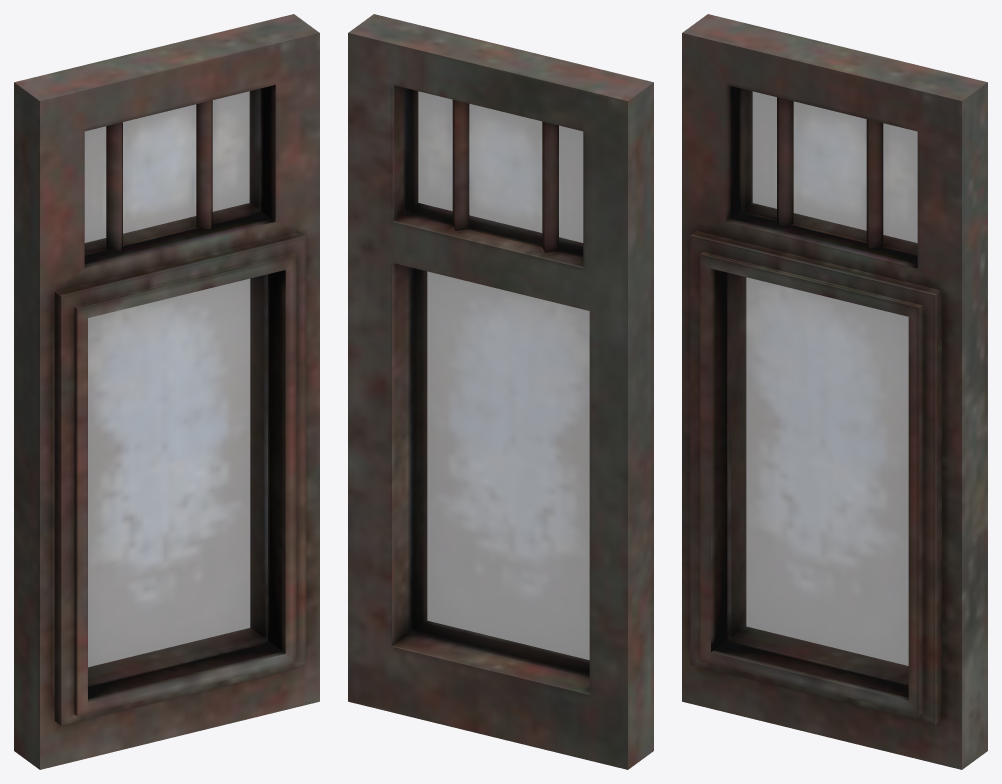
The model's file is S_Window.FBX.
The picture shows the model from 3 angles, left to right: view 1: azimuth 30°, elevation 25°; view 2: azimuth 150°, elevation 25°; view 3: azimuth 330°, elevation 25°; orthographic projection.
Parts seen in each view (by area): view 1: S_Window; view 2: S_Window; view 3: S_Window.
Part boxes in pixels (x1,y1,x2,y2): S_Window: (14, 14, 319, 769); S_Window: (348, 14, 653, 769); S_Window: (682, 14, 987, 769).
Bounding box in the file's own units: 88.43 × 202 × 19.44.
